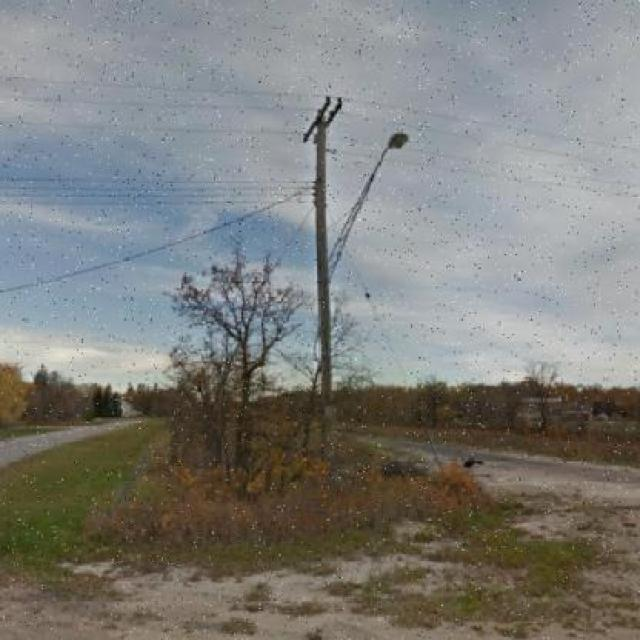pole: (252, 46, 413, 486)
